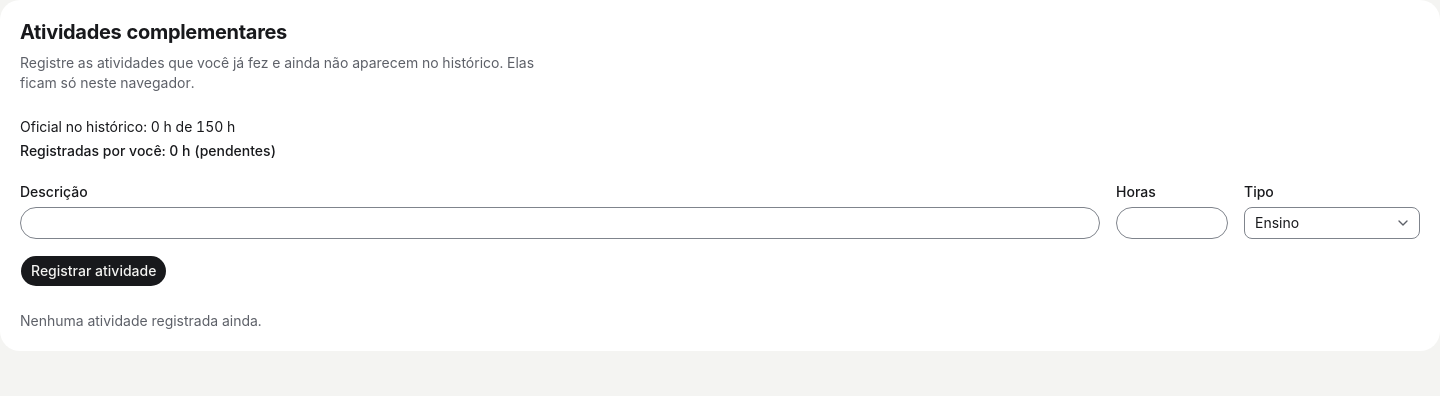
Scenario: AaccCard › asks for a description
expect the text "Nenhuma atividade registrada ainda." is shown: met, box left=20, top=312, right=262, bottom=329
Type "5" into the number field labelled "Horas" at {"x": 1172, "y": 223}, box left=1116, top=207, right=1228, bottom=239
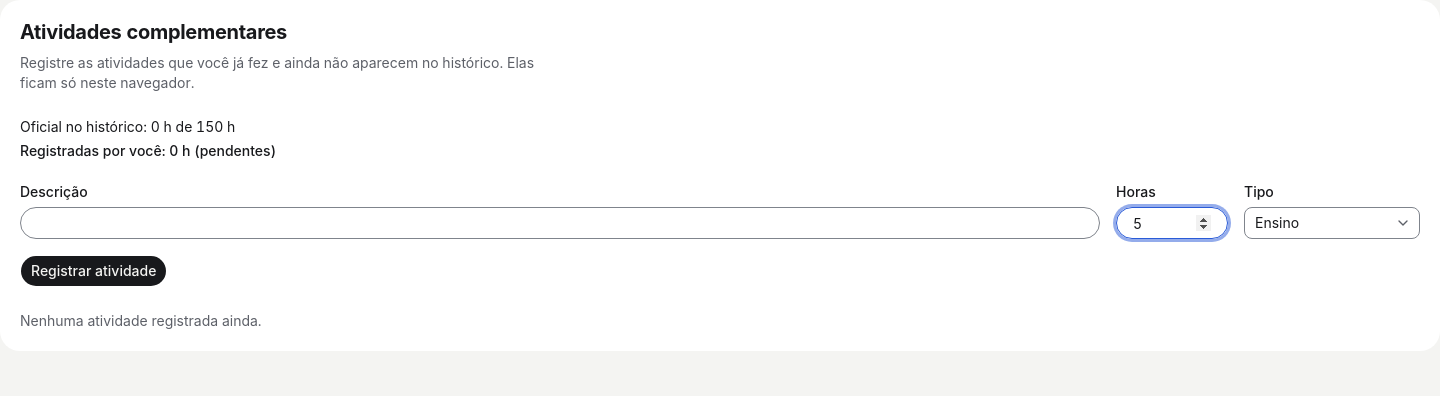
Click the button "Registrar atividade" at {"x": 94, "y": 271}, box left=20, top=255, right=167, bottom=287
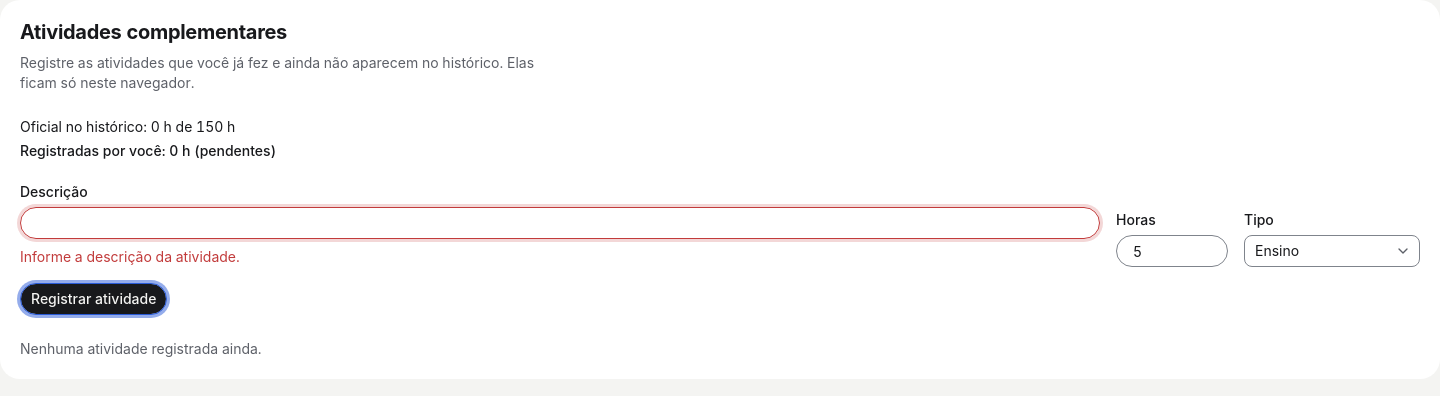
expect the message reads "Informe a descrição da atividade.": met, box left=20, top=248, right=240, bottom=265
